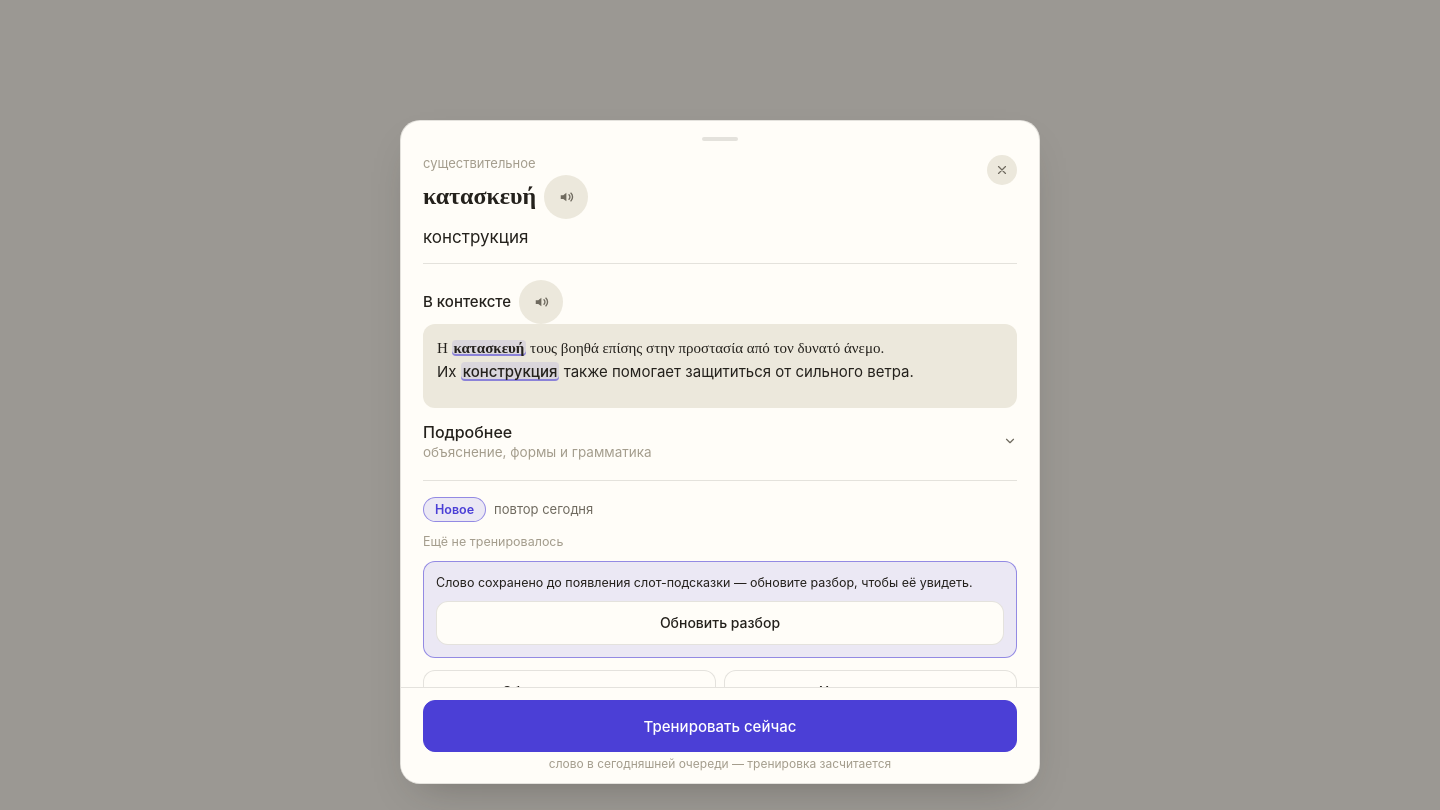
Scenario: LearnWordCard › «Обновить разбор» перегенерирует тир 1 и сохраняет hint + новую версию промпта
The width and height of the screenshot is (1440, 810).
Step 1. Click the button "Обновить разбор" → (720,623), box [436,601,1004,645]
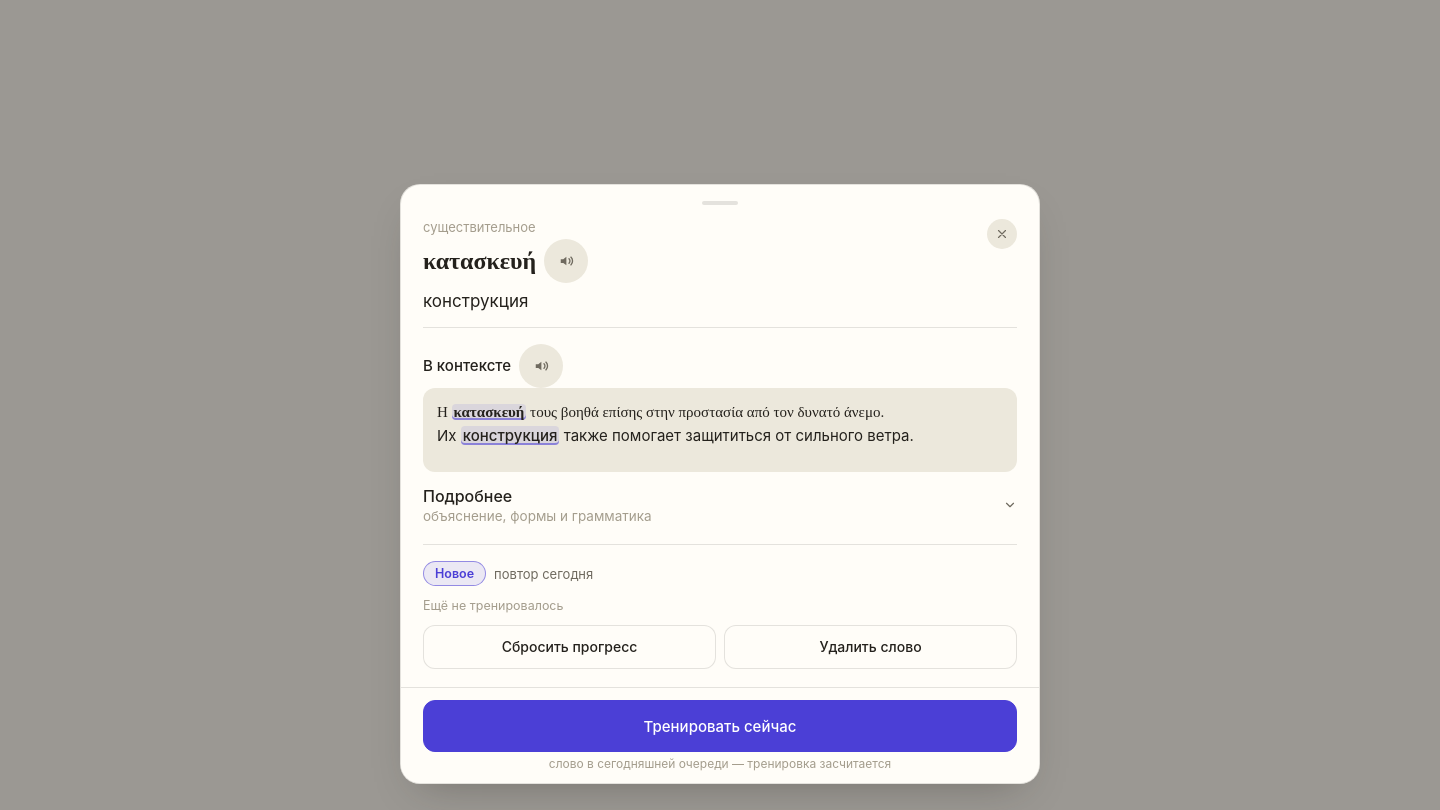
Check: the button "Обновить разбор" is gone
